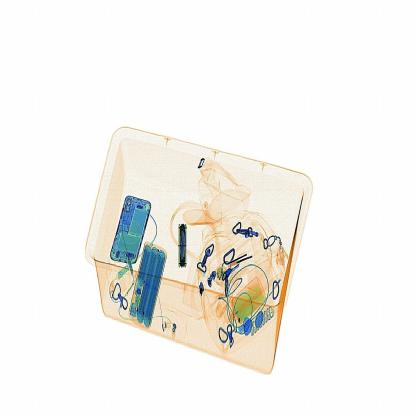scissors: (175, 217, 197, 273)
